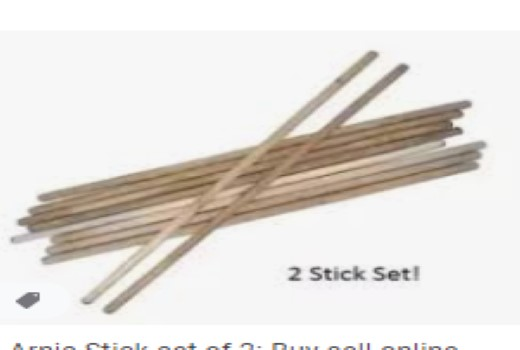baston_v: (77, 287, 96, 312), (390, 59, 415, 77), (98, 298, 115, 322), (364, 45, 380, 67), (473, 135, 491, 150), (453, 122, 467, 138), (468, 158, 480, 174), (42, 242, 56, 255), (436, 134, 448, 149), (471, 147, 482, 163), (37, 253, 50, 266), (32, 192, 46, 204), (8, 234, 20, 247), (463, 97, 474, 111), (47, 233, 61, 244), (455, 107, 466, 120), (25, 222, 36, 233), (445, 120, 455, 131), (24, 205, 34, 216), (14, 216, 23, 226)
